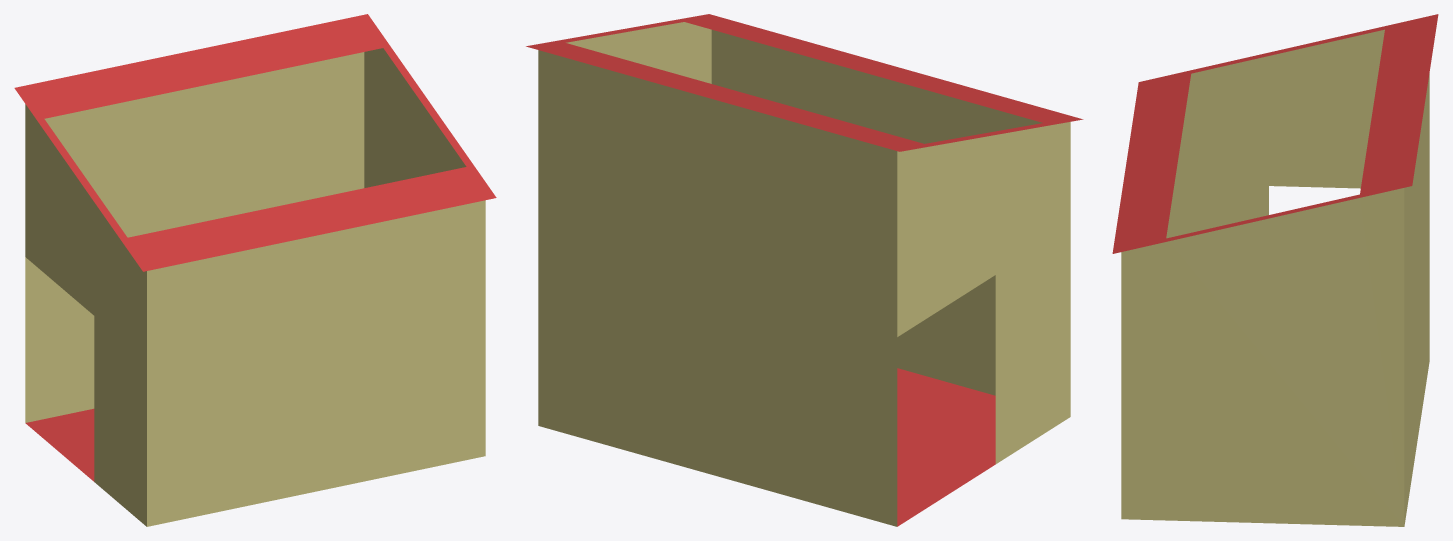
3 views of the same model, side by side, from view 1: azimuth 30°, elevation 25°; view 2: azimuth 150°, elevation 25°; view 3: azimuth 270°, elevation 25° (orthographic). The views are drawn at different scales.
Bounding box in the file's own units: 12.59 × 9.63 × 11.24.
